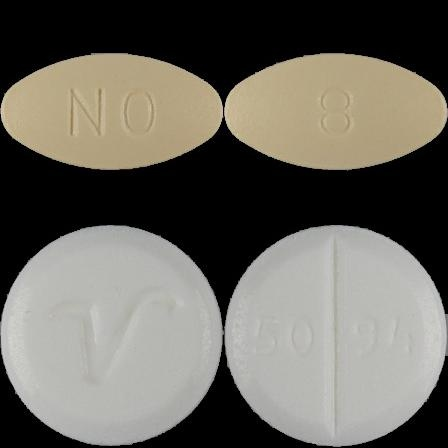63187-065: (0, 0, 224, 224)
